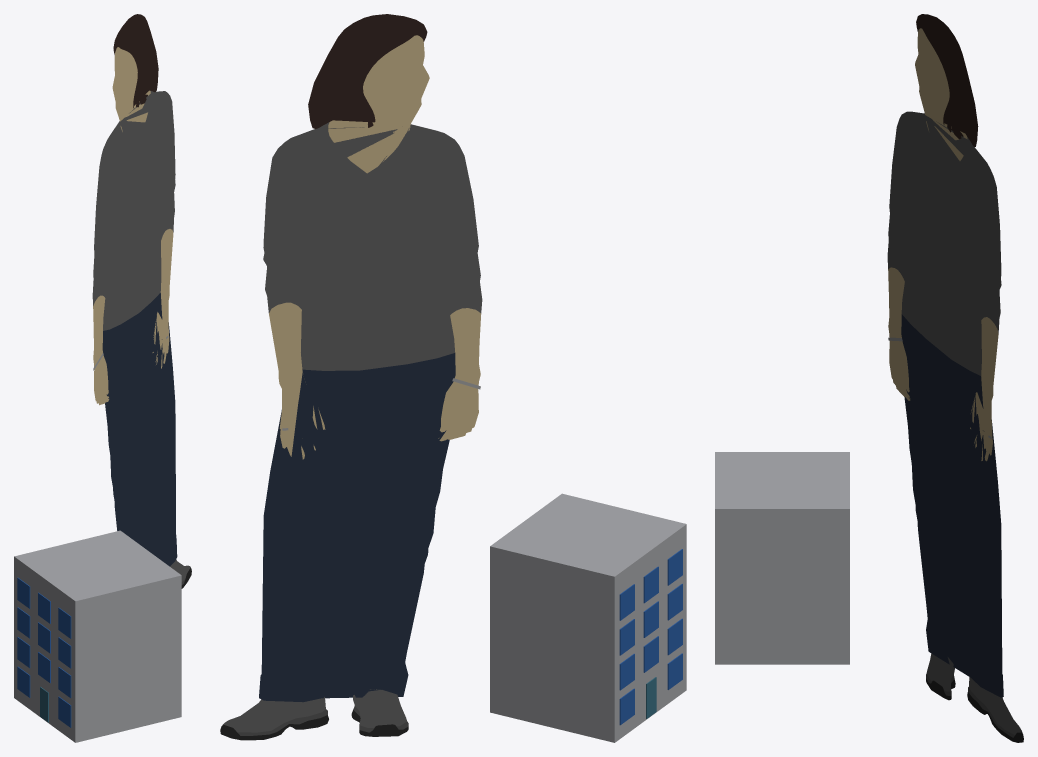
The model's file is Building2.obj.
3 views of the same model, side by side, from view 1: azimuth 30°, elevation 25°; view 2: azimuth 150°, elevation 25°; view 3: azimuth 270°, elevation 25° (orthographic). The views are drawn at different scales.
Visible parts, largest first — view 1: Mesh1 Susan1 Model, Mesh2 cube01_1_1 skpBB1 Model, Mesh5 cube04_1_1 skpBB1 Model, Mesh6 cube05_1_1 skpBB1 Model, Mesh7 cube06_1_1 skpBB1 Model, Mesh13 cube12_1_1 skpBB1 Model, Mesh4 cube03_1_1 skpBB1 Model, Mesh8 cube07_1_1 skpBB1 Model, Mesh11 cube10_1_1 skpBB1 Model, Mesh12 cube11_1_1 skpBB1 Model; view 2: Mesh1 Susan1 Model, Mesh2 cube01_1_1 skpBB1 Model; view 3: Mesh1 Susan1 Model, Mesh2 cube01_1_1 skpBB1 Model.
Boxes of the visible parts, <box> form: Mesh1 Susan1 Model: <box>92,14,191,588</box>; Mesh2 cube01_1_1 skpBB1 Model: <box>14,530,181,742</box>; Mesh5 cube04_1_1 skpBB1 Model: <box>58,696,71,727</box>; Mesh6 cube05_1_1 skpBB1 Model: <box>17,577,30,608</box>; Mesh7 cube06_1_1 skpBB1 Model: <box>17,607,30,638</box>; Mesh13 cube12_1_1 skpBB1 Model: <box>17,666,30,697</box>; Mesh4 cube03_1_1 skpBB1 Model: <box>58,607,71,638</box>; Mesh8 cube07_1_1 skpBB1 Model: <box>58,637,71,668</box>; Mesh11 cube10_1_1 skpBB1 Model: <box>58,667,71,698</box>; Mesh12 cube11_1_1 skpBB1 Model: <box>17,637,30,668</box>; Mesh1 Susan1 Model: <box>220,14,482,740</box>; Mesh2 cube01_1_1 skpBB1 Model: <box>490,493,686,742</box>; Mesh1 Susan1 Model: <box>887,14,1023,742</box>; Mesh2 cube01_1_1 skpBB1 Model: <box>715,452,849,664</box>.
Bounding box in the file's own units: 29.18 × 66.6 × 27.57.
